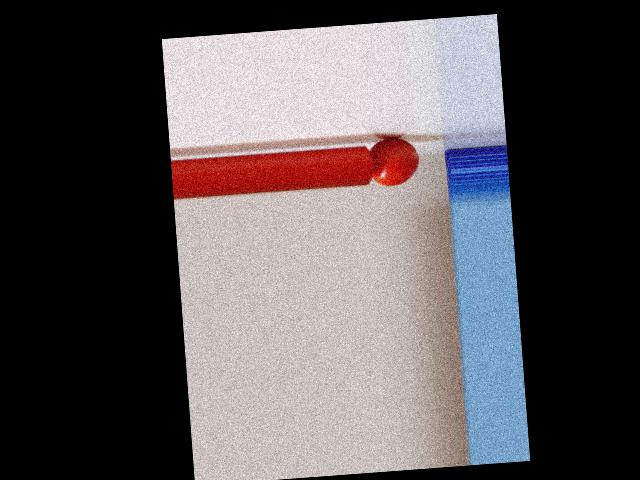tomato: (370, 136, 420, 187)
